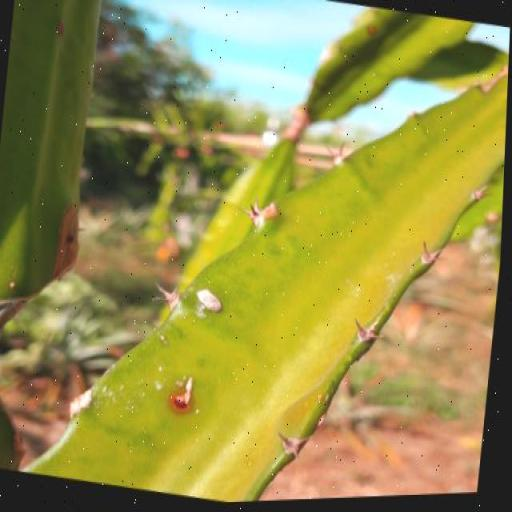stemcanker: (152, 358, 168, 377), (154, 379, 165, 394)
